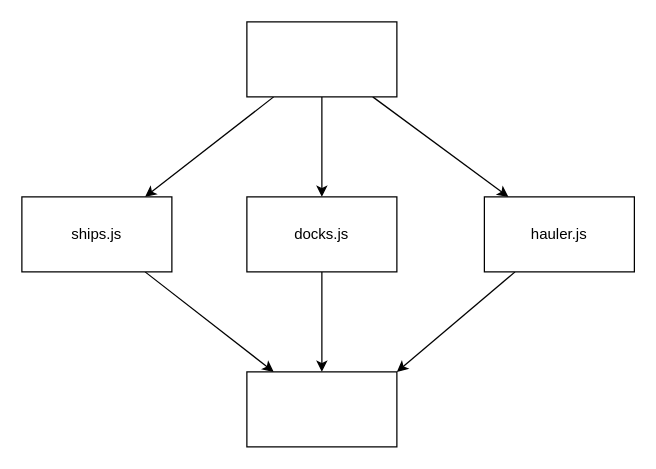
This 656x469 diagram has some shape labels left out. Each missing label, with the centre of its shape:
database.js: the point at 321,409
main.js: the point at 321,59
